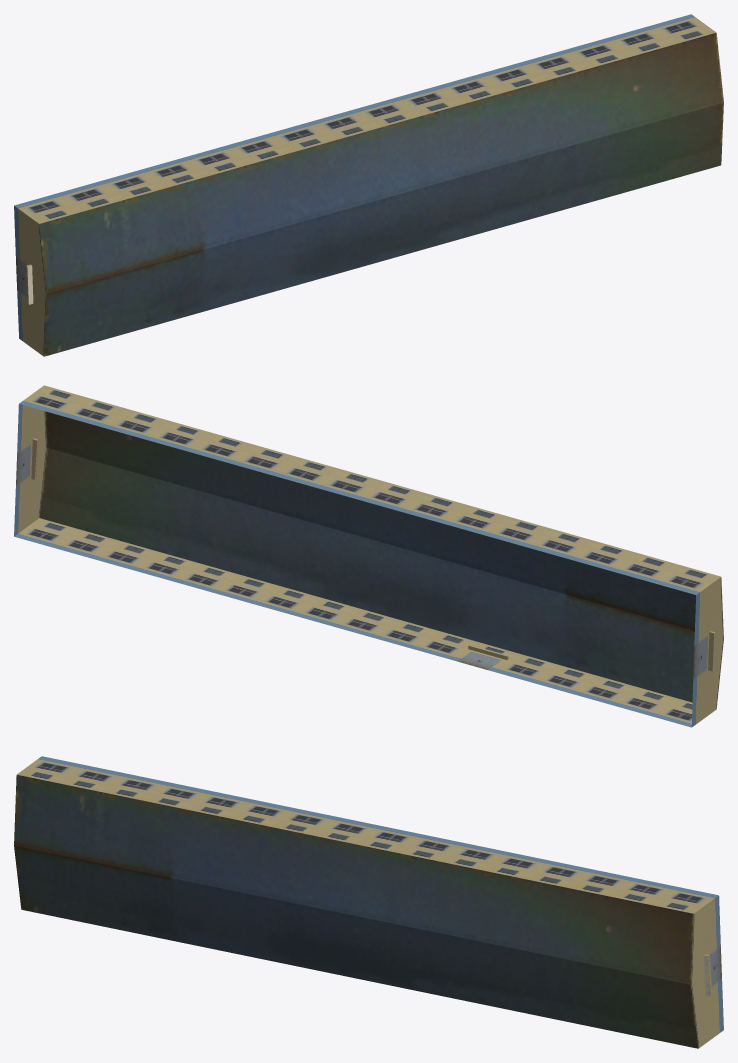
The picture shows the model from 3 angles, top to bottom: view 1: azimuth 30°, elevation 25°; view 2: azimuth 150°, elevation 25°; view 3: azimuth 330°, elevation 25°; orthographic projection.
Visible parts, largest first — view 1: Group_MatrixTransform_i96169_Geometry_5, Group_MatrixTransform_i96169_Geometry_2, Group_MatrixTransform_i96169_Geometry_0, Group_MatrixTransform_i96169_Geometry_3; view 2: Group_MatrixTransform_i96169_Geometry_5, Group_MatrixTransform_i96169_Geometry_2, Group_MatrixTransform_i96169_Geometry_0, Group_MatrixTransform_i96169_Geometry_3, Group_MatrixTransform_i96169_Geometry_1; view 3: Group_MatrixTransform_i96169_Geometry_5, Group_MatrixTransform_i96169_Geometry_2, Group_MatrixTransform_i96169_Geometry_0, Group_MatrixTransform_i96169_Geometry_3.
Part boxes in pixels (box(x1,y1,x2,y2)): Group_MatrixTransform_i96169_Geometry_5: box(39, 32, 723, 356); Group_MatrixTransform_i96169_Geometry_2: box(14, 14, 715, 223); Group_MatrixTransform_i96169_Geometry_0: box(14, 206, 34, 349); Group_MatrixTransform_i96169_Geometry_3: box(26, 218, 46, 356); Group_MatrixTransform_i96169_Geometry_5: box(39, 411, 695, 702); Group_MatrixTransform_i96169_Geometry_2: box(14, 385, 720, 727); Group_MatrixTransform_i96169_Geometry_0: box(14, 404, 712, 726); Group_MatrixTransform_i96169_Geometry_3: box(30, 408, 723, 715); Group_MatrixTransform_i96169_Geometry_1: box(452, 641, 518, 671); Group_MatrixTransform_i96169_Geometry_5: box(14, 775, 698, 1048); Group_MatrixTransform_i96169_Geometry_2: box(17, 756, 718, 913); Group_MatrixTransform_i96169_Geometry_0: box(703, 896, 723, 1041); Group_MatrixTransform_i96169_Geometry_3: box(691, 907, 712, 1048).
Bounding box in the file's own units: 86.05 × 19.09 × 6.59.
7 materials, 7 textured.
